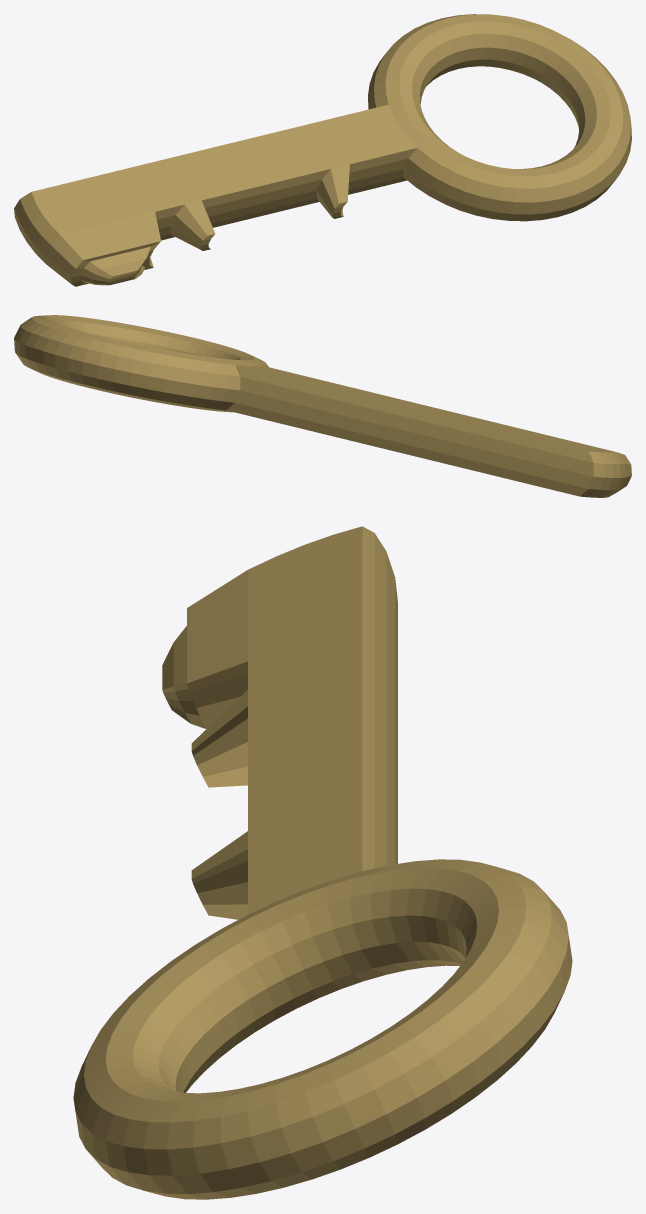
File: chiave.fbx
3 renders of one model, top to bottom at view 1: azimuth 30°, elevation 25°; view 2: azimuth 150°, elevation 25°; view 3: azimuth 270°, elevation 25°, orthographic. The views are drawn at different scales.
Visible parts, largest first — view 1: Torus.002; view 2: Torus.002; view 3: Torus.002.
Boxes of the visible parts, left/top/right/bottom form: Torus.002: left=14, top=14, right=631, bottom=286; Torus.002: left=14, top=315, right=631, bottom=497; Torus.002: left=73, top=526, right=572, bottom=1199.
Bounding box in the file's own units: 31.88 × 6.39 × 11.79.
